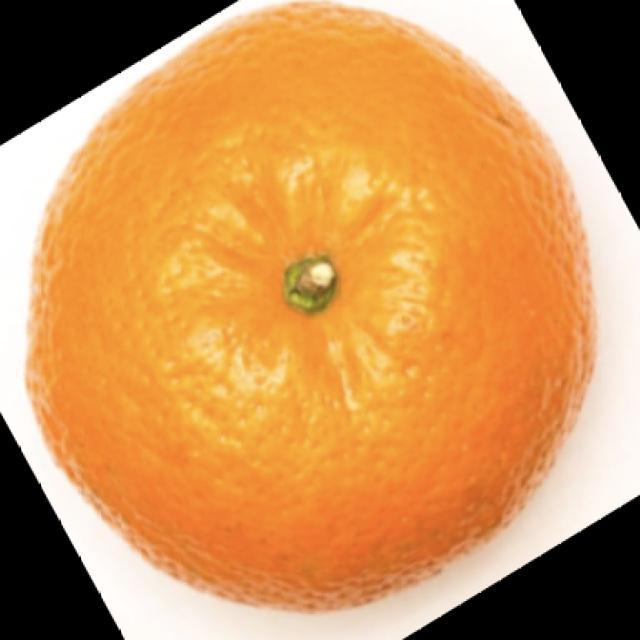matang: (28, 5, 591, 606)
